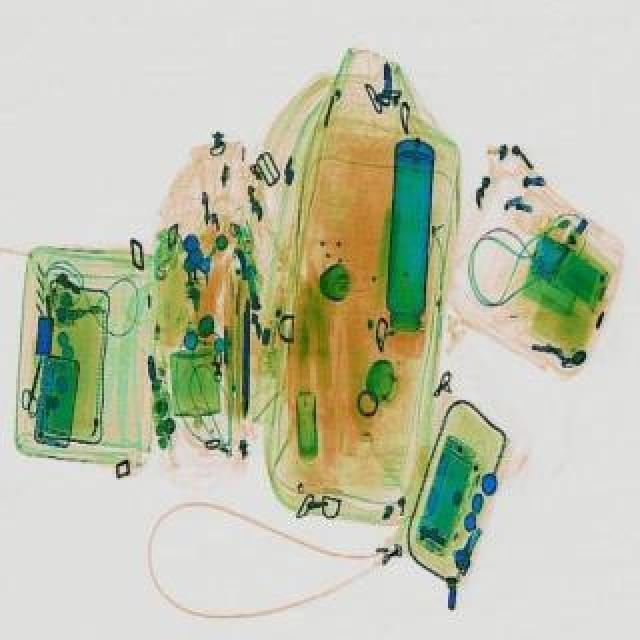pliers: (18, 354, 54, 414)
